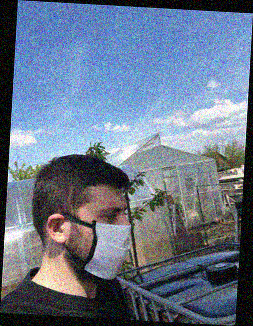with_mask: (83, 201, 131, 284)
